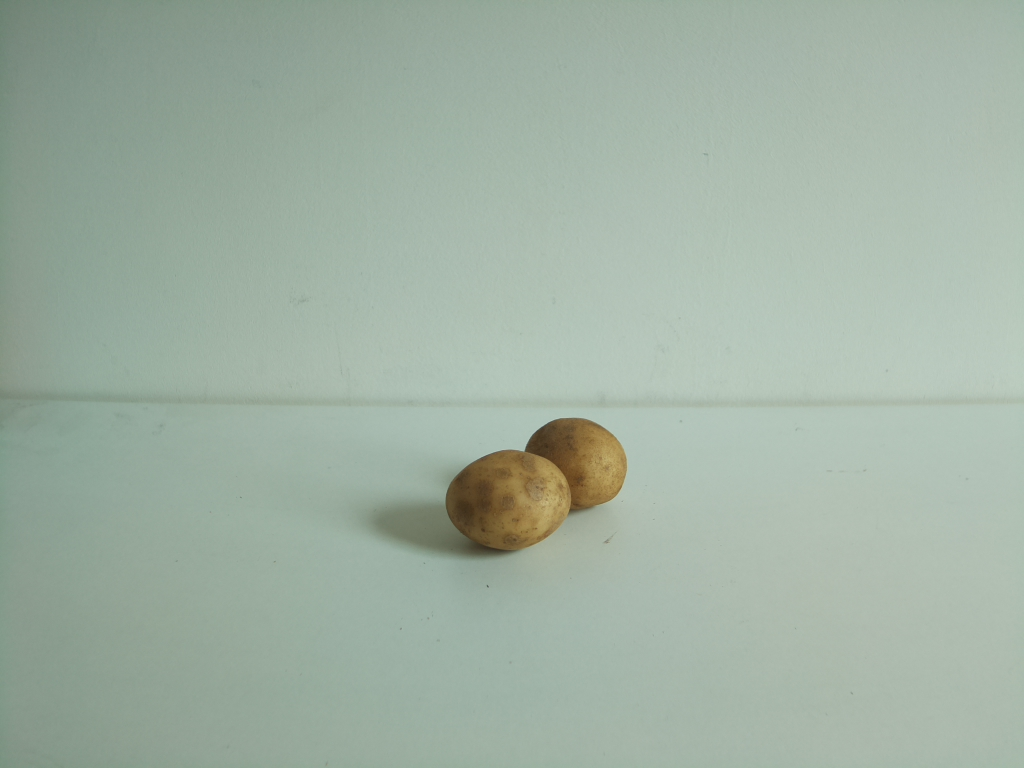potatoes: (440, 419, 631, 556)
